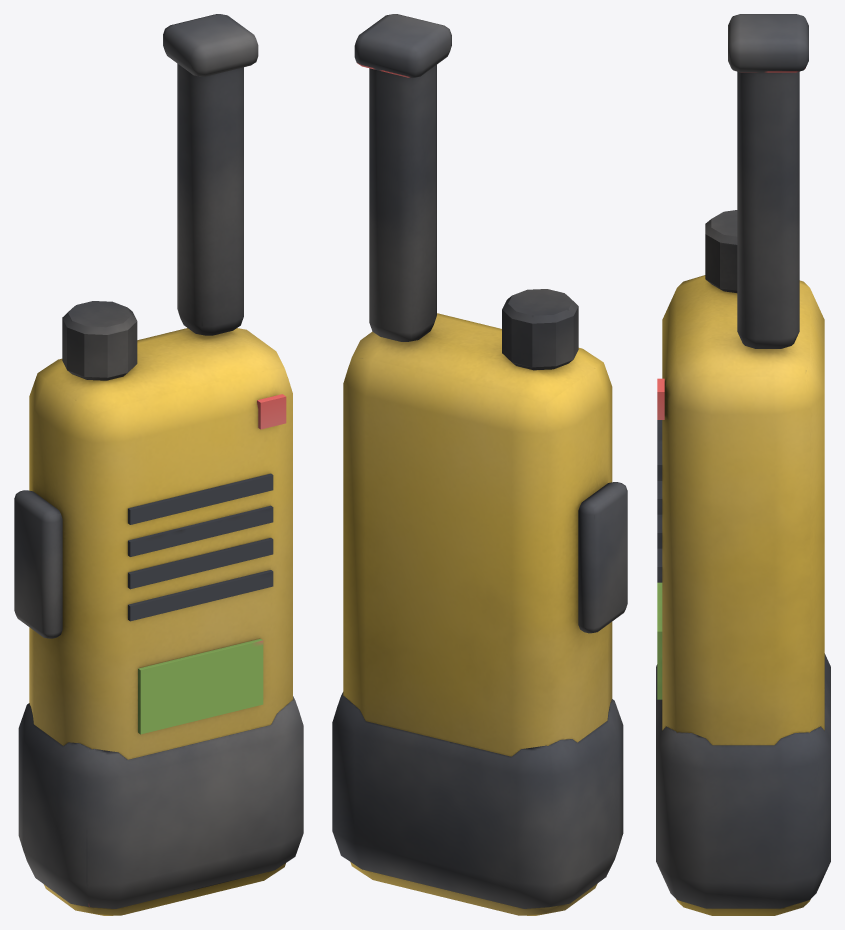
The model's file is walkie_talkie.fbx.
3 renders of one model, left to right at view 1: azimuth 30°, elevation 25°; view 2: azimuth 150°, elevation 25°; view 3: azimuth 270°, elevation 25°, orthographic. The views are drawn at different scales.
Visible parts, largest first — view 1: Body, Button, Knob, Glow; view 2: Body, Button, Knob; view 3: Body, Knob.
Part boxes in pixels (box(x1,y1,x2,y2)): Body: box(18, 14, 303, 915); Button: box(14, 490, 62, 638); Knob: box(62, 301, 137, 380); Glow: box(257, 394, 286, 429); Body: box(332, 14, 623, 915); Button: box(578, 482, 627, 633); Knob: box(502, 289, 578, 370); Body: box(656, 14, 830, 915); Knob: box(705, 210, 737, 292).
Size of the model in its own units: 0.2475 by 0.78 by 0.14.
Materials: 1 (1 with a texture image).
